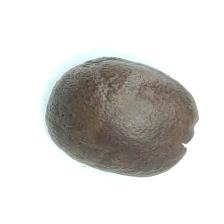NG: (177, 109, 200, 159)
